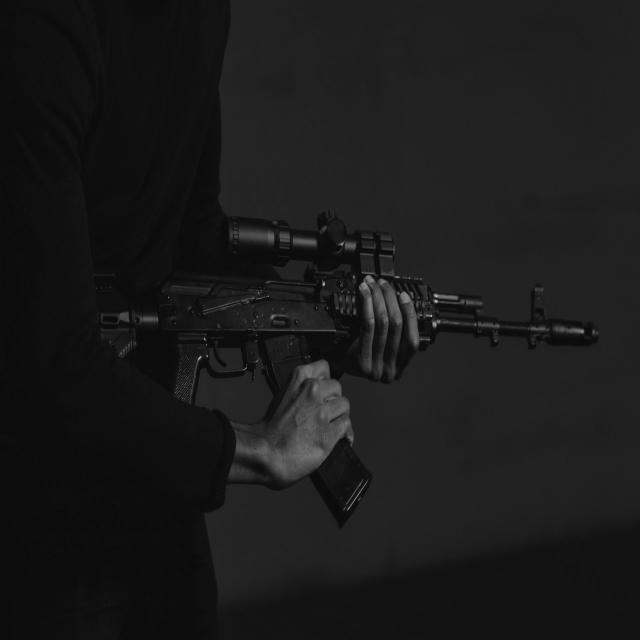gun: (86, 204, 602, 525)
